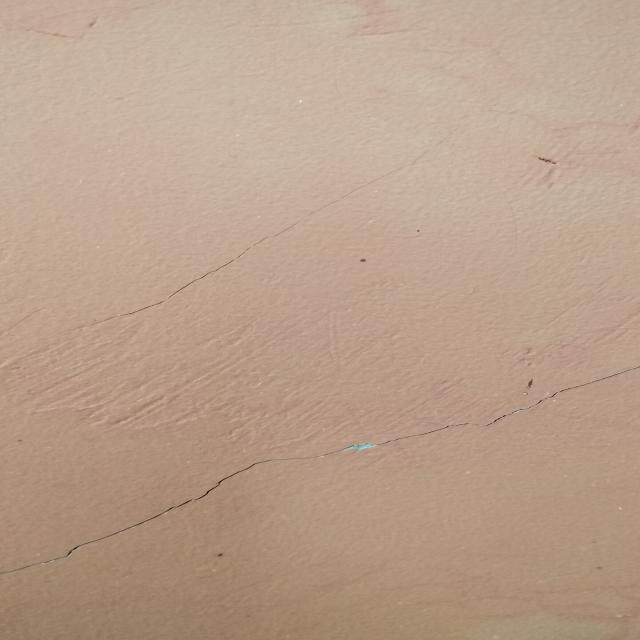Crack: (5, 365, 640, 575)
